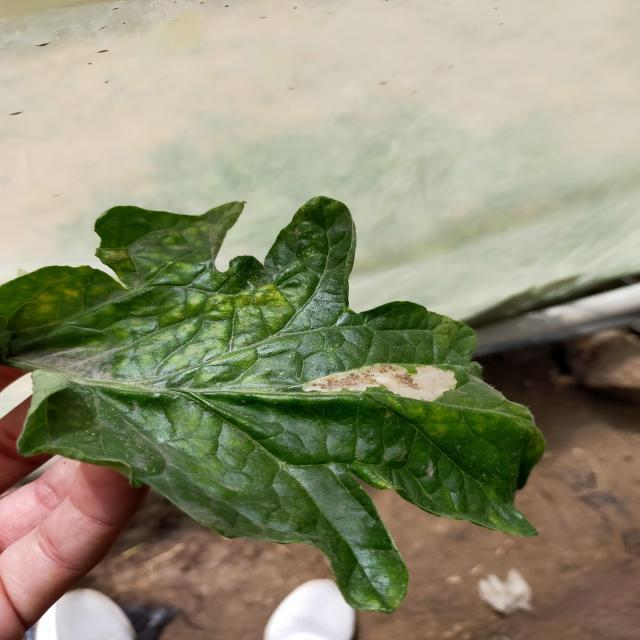Tuta absoluta: (302, 356, 457, 403)
